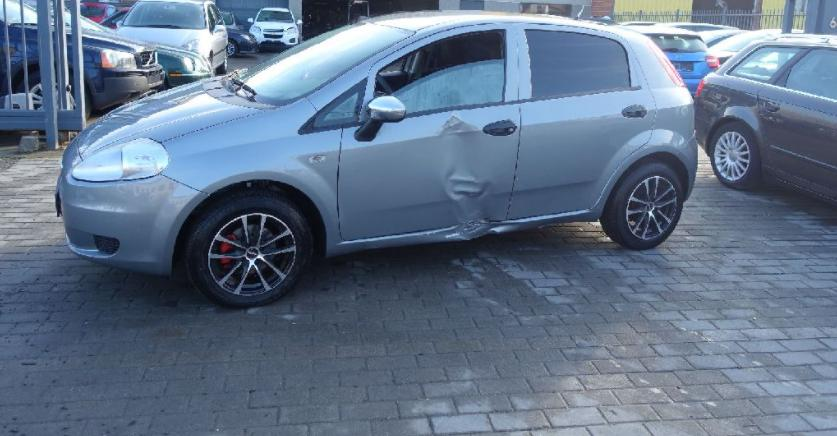Back-bumper: (678, 133, 698, 201)
Back-door: (507, 23, 656, 219)
Back-wheel: (601, 156, 685, 250)
Back-window: (526, 30, 630, 95)
Fender: (161, 97, 342, 244)
Front-bumper: (57, 138, 208, 278)
Front-door: (337, 23, 519, 240)
Front-wheel: (184, 188, 318, 311)
Front-window: (377, 29, 504, 113), (302, 81, 366, 134)
Headlight: (73, 140, 168, 182)
Hood: (78, 76, 280, 159)
License-plate: (53, 195, 60, 217), (56, 179, 60, 195)
Mirror: (365, 95, 405, 123)
Quarter-panel: (594, 83, 694, 210)
Rocker-panel: (325, 209, 601, 257)
Roof: (372, 8, 647, 41)
Tail-light: (646, 38, 690, 91)
Windshield: (225, 20, 414, 102)
